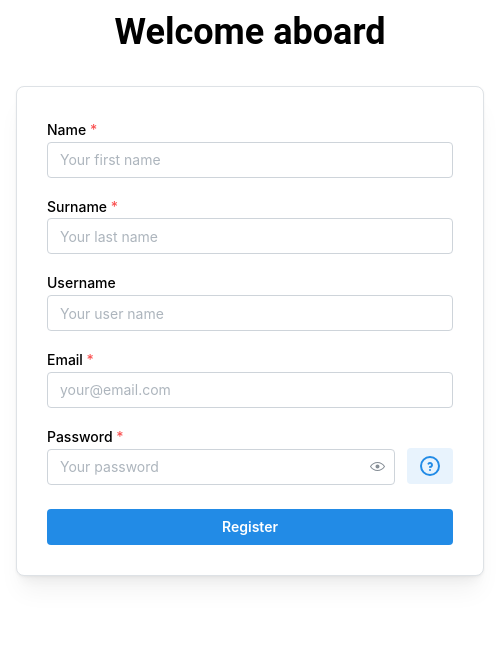
<RegisterForm/> › Handling submit test › should not submit and it will show errors if data is not entered
Click the button "Register" at [250, 527], box [47,509,453,545]
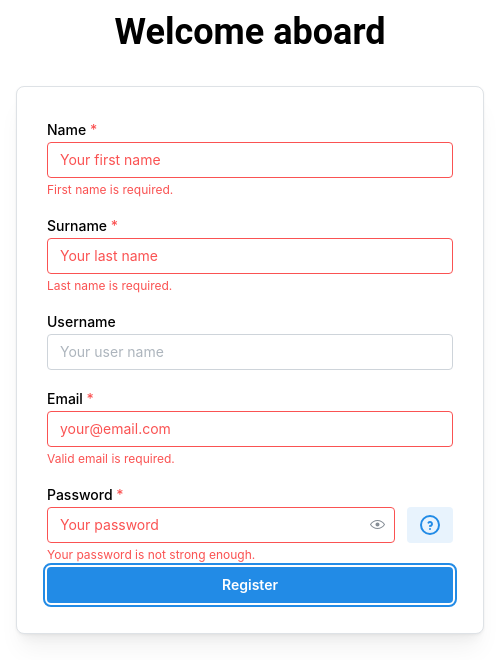
Expected: the text "First name is required." is shown, [47,182,173,197]
Expected: the text "Last name is required." is shown, [47,278,172,293]
Expected: the text "Valid email is required." is shown, [47,451,175,466]
